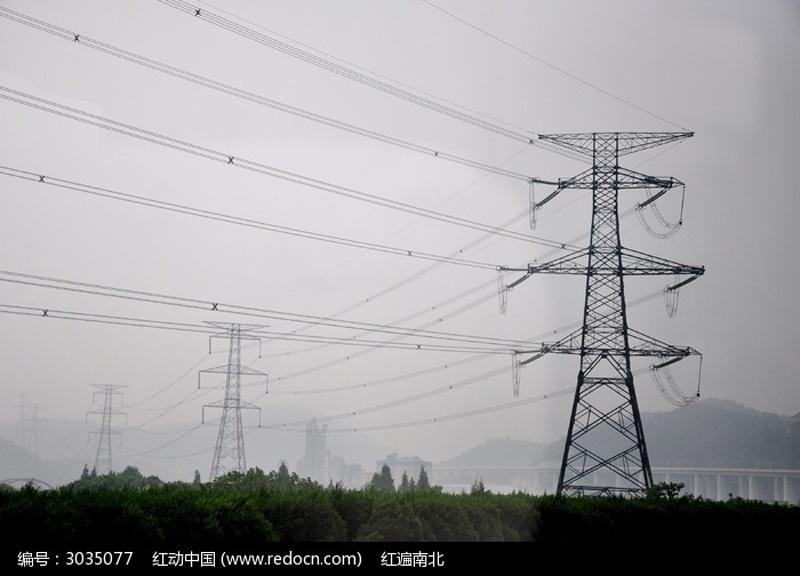power_tower: (497, 126, 706, 500), (196, 322, 272, 484), (85, 383, 129, 477), (26, 402, 46, 450)
